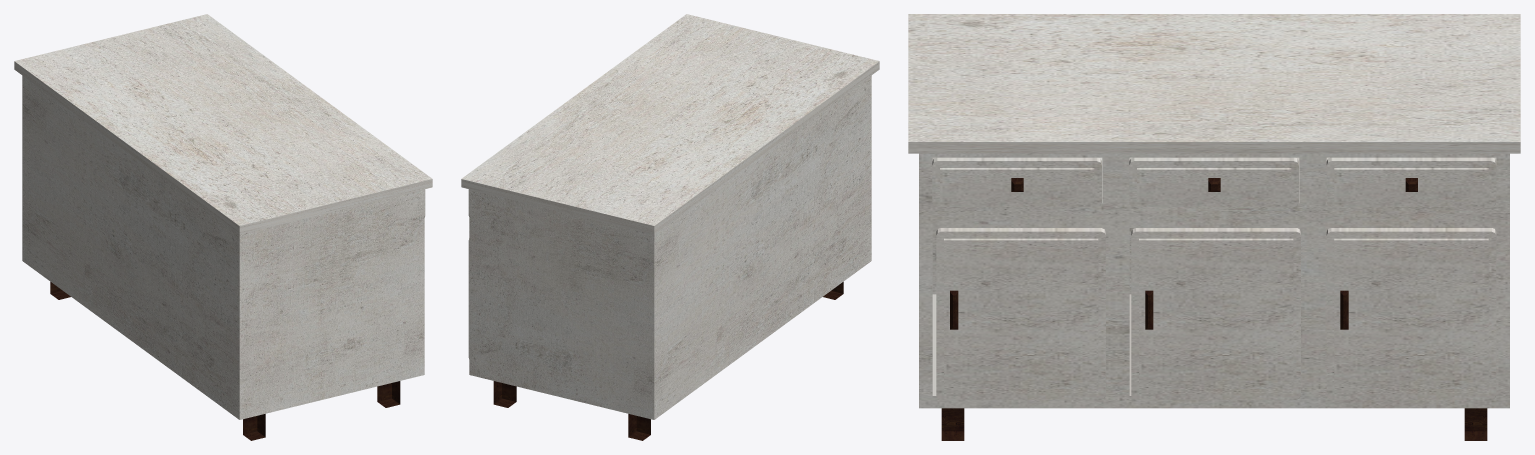
The model's file is shelf.glb.
3 views of the same model, side by side, from view 1: azimuth 30°, elevation 25°; view 2: azimuth 150°, elevation 25°; view 3: azimuth 270°, elevation 25° (orthographic). The views are drawn at different scales.
Parts seen in each view (by area): view 1: DRAWERMAIN.013; view 2: DRAWERMAIN.013; view 3: DRAWERMAIN.013, DRAWERMAIN.011, DRAWERMAIN.014, DRAWERMAIN.016, DRAWERMAIN.009, DRAWERMAIN.002, DRAWERMAIN.018.
Boxes of the visible parts, box(x1,y1,x2,y2) form: DRAWERMAIN.013: box(14, 14, 432, 440); DRAWERMAIN.013: box(461, 14, 879, 440); DRAWERMAIN.013: box(908, 14, 1520, 440); DRAWERMAIN.011: box(1326, 228, 1496, 399); DRAWERMAIN.014: box(1131, 228, 1300, 399); DRAWERMAIN.016: box(936, 228, 1105, 399); DRAWERMAIN.009: box(1326, 157, 1496, 206); DRAWERMAIN.002: box(1129, 157, 1298, 206); DRAWERMAIN.018: box(932, 157, 1101, 206).
Bounding box in the file's own units: 1.44 × 1.56 × 2.78.
Materials: 2 (2 with a texture image).
